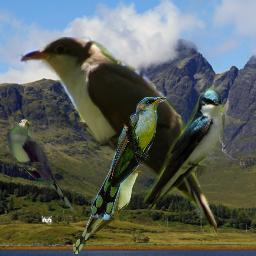Cuckoo: (16, 37, 217, 237), (91, 97, 166, 220), (6, 118, 80, 214), (73, 168, 143, 254)
Swallow: (143, 87, 226, 213)
